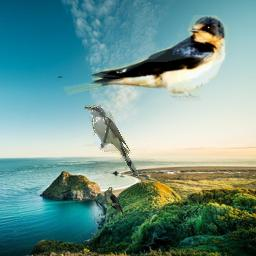Cuckoo: (84, 105, 139, 177), (104, 187, 131, 222)
Swallow: (63, 15, 228, 101)
